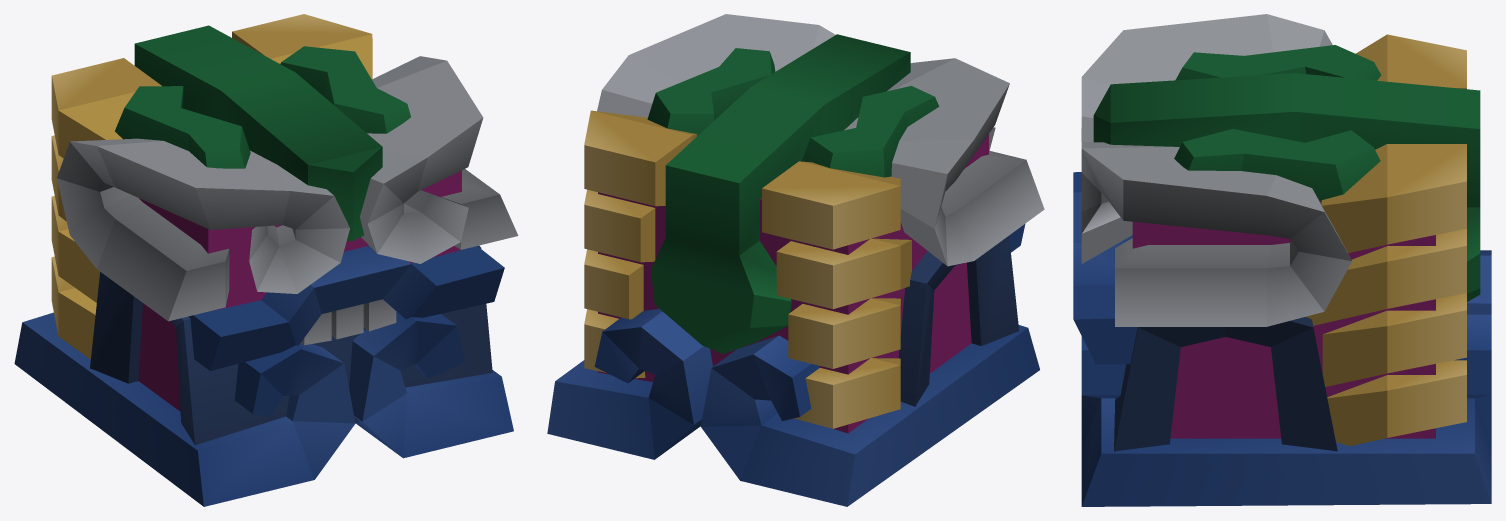
Rendered from grenade_Mayan.glb.
The picture shows the model from 3 angles, left to right: view 1: azimuth 30°, elevation 25°; view 2: azimuth 150°, elevation 25°; view 3: azimuth 270°, elevation 25°; orthographic projection. The views are drawn at different scales.
Parts seen in each view (by area): view 1: grenade_Mayan; view 2: grenade_Mayan; view 3: grenade_Mayan.
Boxes of the visible parts, <box> form: grenade_Mayan: <box>14,14,518,506</box>; grenade_Mayan: <box>547,14,1044,506</box>; grenade_Mayan: <box>1073,14,1491,506</box>.
Size of the model in its own units: 0.1303 by 0.1116 by 0.1266.
